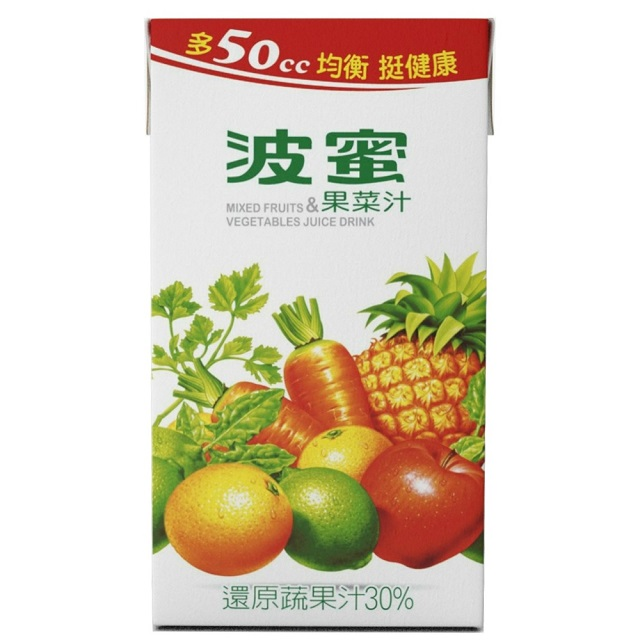vegetables juice: (125, 37, 491, 636)
